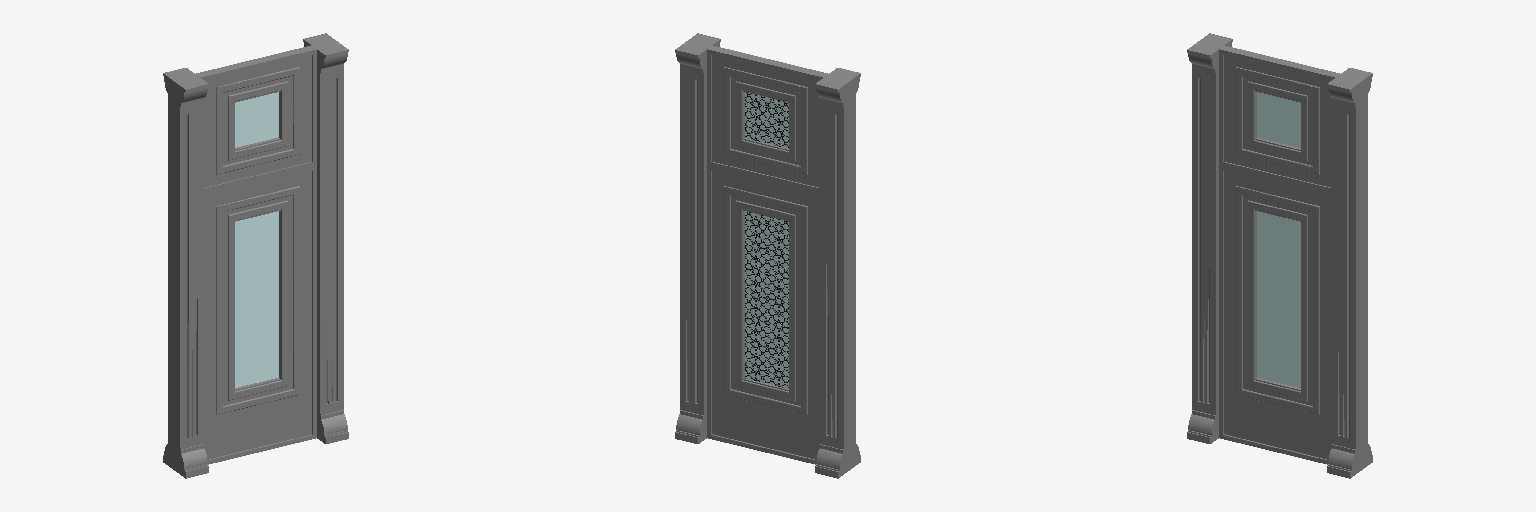
The model's file is door.obj.
The picture shows the model from 3 angles: view 1: azimuth 30°, elevation 25°; view 2: azimuth 150°, elevation 25°; view 3: azimuth 330°, elevation 25°; orthographic projection.
Parts seen in each view (by area): view 1: Rectangle022, Shape008, Box382, Rectangle015; view 2: Rectangle022, Shape008, Box382, Rectangle015, Layer_050; view 3: Rectangle022, Shape008, Box382, Rectangle015.
Part boxes in pixels (x1,y1,x2,y2): Rectangle022: (204,55,311,459); Shape008: (163,33,348,478); Box382: (235,92,278,387); Rectangle015: (196,45,316,464); Rectangle022: (712,55,819,459); Shape008: (675,33,860,478); Box382: (745,92,788,388); Rectangle015: (707,45,827,464); Layer_050: (745,92,788,387); Rectangle022: (1224,55,1331,459); Shape008: (1187,33,1372,478); Box382: (1257,92,1300,387); Rectangle015: (1219,45,1339,464).
Size of the model in its own units: 140 by 319 by 33.78.